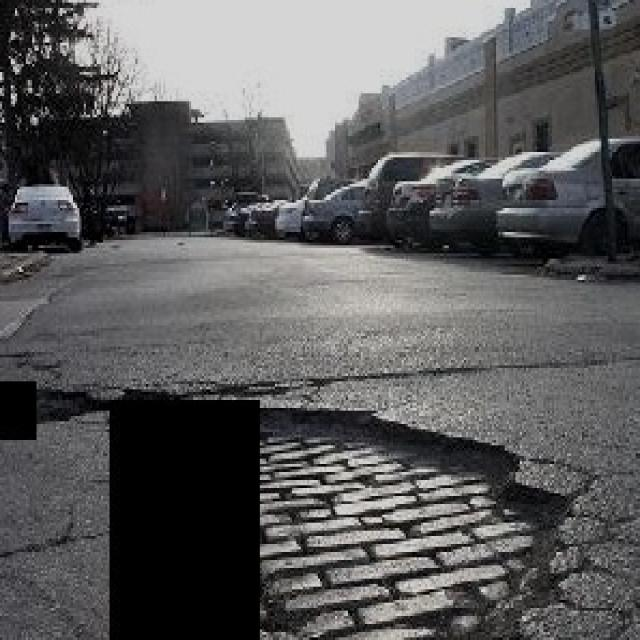road-pothole: (260, 408, 574, 637)
